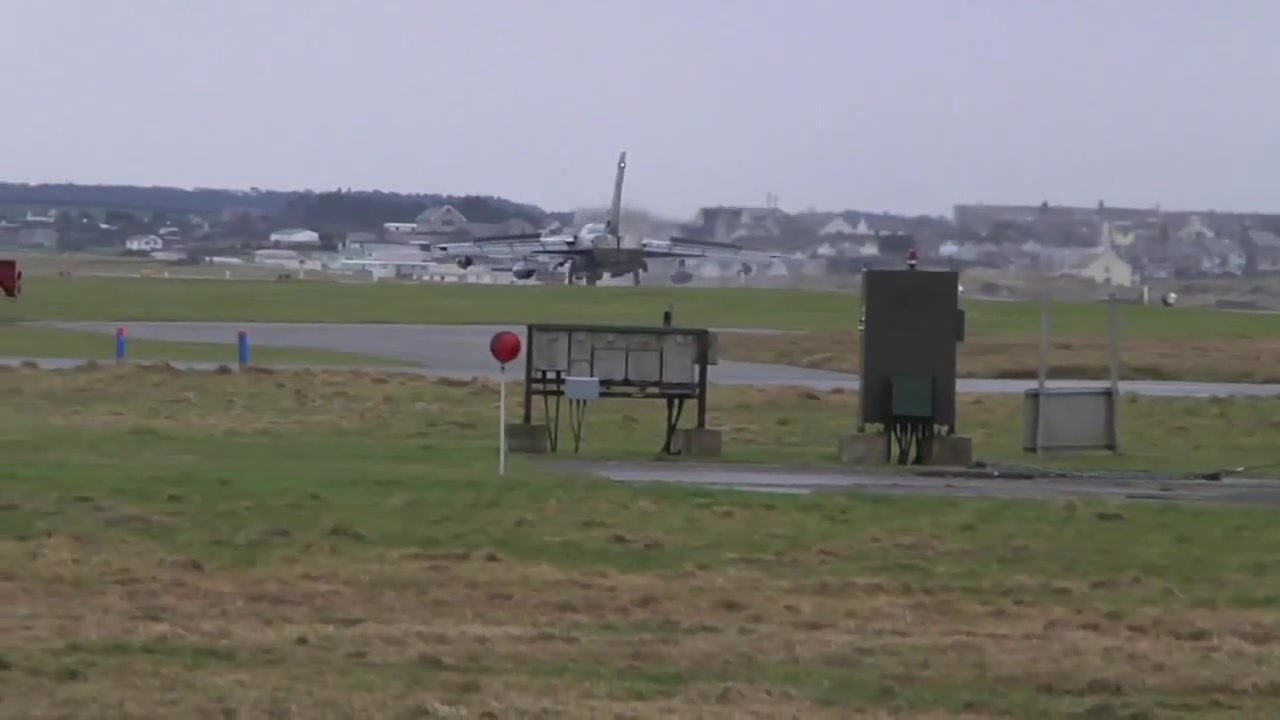aeroplane: (437, 153, 807, 294)
